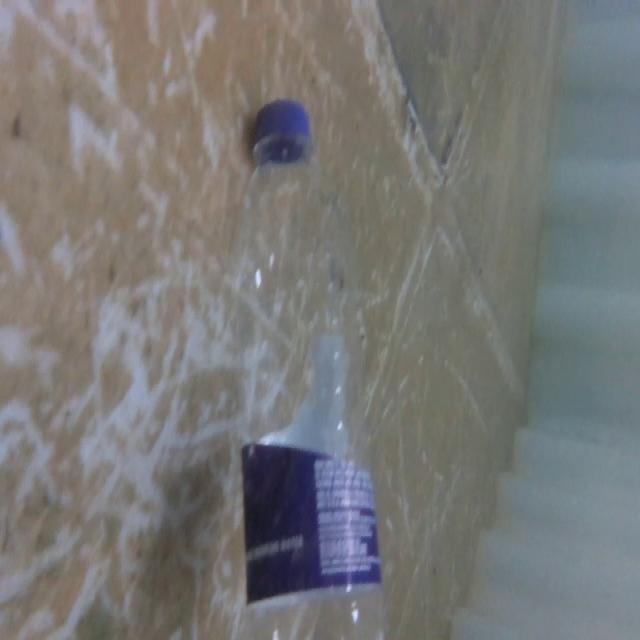plastic bottle: (220, 89, 395, 640)
